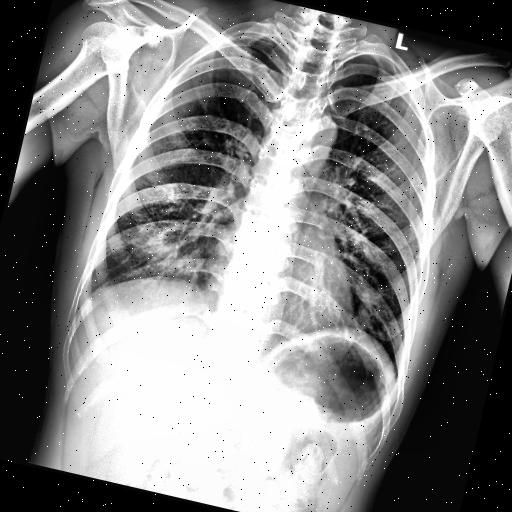11- Pleural thickening: (229, 28, 276, 48), (234, 28, 274, 44)
13- Pulmonary fibrosis: (120, 182, 224, 290)
4- Consolidation: (120, 182, 224, 290)
6- Infiltration: (120, 182, 224, 290)
7- Lung Opacity: (122, 178, 229, 296), (342, 268, 408, 344)
